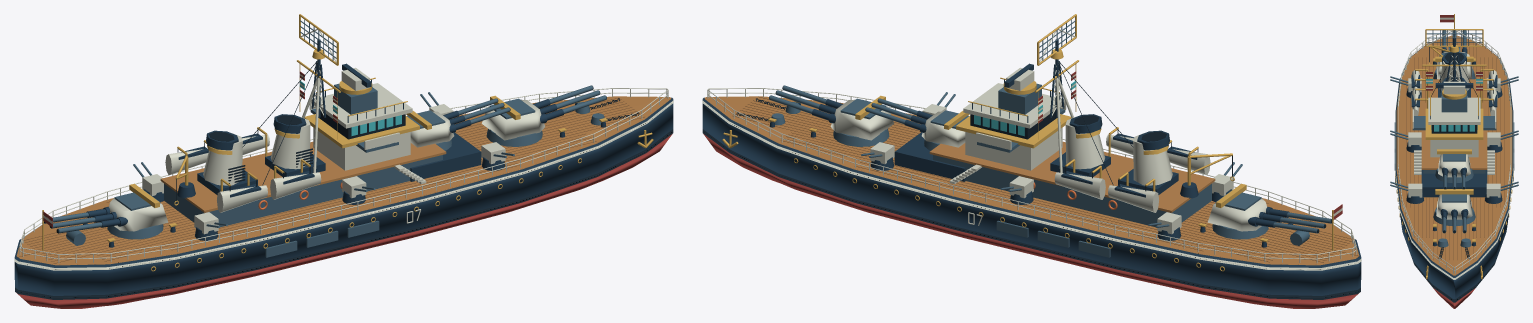
File: demo-resolute-polar-fleet-flagship.glb
3 renders of one model, left to right at view 1: azimuth 30°, elevation 25°; view 2: azimuth 150°, elevation 25°; view 3: azimuth 270°, elevation 25°, orthographic. The views are drawn at different scales.
Parts seen in each view (by area): view 1: Mesh_Armoured flared hull, Mesh_Teak main deck, Mesh_Red antifouling carved keel, Mesh_Citadel lower deck, Mesh_Citadel teak roof, Mesh_Boot stripe, Mesh_Ivory sheer stripe, Mesh_Bridge lower block, Mesh_Bridge roof overhang, Mesh_B raised battery platform, Mesh_A forward battery angled gunhouse, Mesh_Raked funnel -2.4 (+13 smaller); view 2: Mesh_Armoured flared hull, Mesh_Teak main deck, Mesh_Red antifouling carved keel, Mesh_Citadel lower deck, Mesh_Citadel teak roof, Mesh_Boot stripe, Mesh_Ivory sheer stripe, Mesh_Bridge lower block, Mesh_Bridge roof overhang, Mesh_B raised battery platform, Mesh_Raked funnel -5.7, Mesh_Raked funnel -2.4 (+13 smaller); view 3: Mesh_Teak main deck, Mesh_Armoured flared hull, Mesh_Citadel teak roof, Mesh_Bridge roof overhang, Mesh_B raised battery platform, Mesh_Bridge middle deck rim, Mesh_Bridge lower block, Mesh_Ivory sheer stripe, Mesh_A forward battery angled gunhouse, Mesh_B superfiring battery angled gunhouse, Mesh_Conning tower, Mesh_Boot stripe (+38 smaller).
Part boxes in pixels (x1,y1,x2,y2): Mesh_Armoured flared hull: [14, 97, 673, 295]; Mesh_Teak main deck: [16, 96, 671, 265]; Mesh_Red antifouling carved keel: [17, 134, 672, 308]; Mesh_Citadel lower deck: [164, 155, 442, 227]; Mesh_Citadel teak roof: [160, 141, 446, 212]; Mesh_Boot stripe: [15, 129, 673, 299]; Mesh_Ivory sheer stripe: [14, 100, 673, 270]; Mesh_Bridge lower block: [313, 127, 410, 170]; Mesh_Bridge roof overhang: [311, 83, 412, 128]; Mesh_B raised battery platform: [410, 132, 481, 181]; Mesh_A forward battery angled gunhouse: [481, 99, 545, 140]; Mesh_Raked funnel -2.4: [270, 117, 310, 169]; Mesh_Armoured flared hull: [702, 97, 1361, 295]; Mesh_Teak main deck: [704, 96, 1359, 265]; Mesh_Red antifouling carved keel: [703, 134, 1358, 308]; Mesh_Citadel lower deck: [933, 155, 1211, 227]; Mesh_Citadel teak roof: [929, 141, 1215, 212]; Mesh_Boot stripe: [702, 129, 1360, 299]; Mesh_Ivory sheer stripe: [702, 100, 1361, 270]; Mesh_Bridge lower block: [965, 127, 1062, 170]; Mesh_Bridge roof overhang: [963, 83, 1064, 128]; Mesh_B raised battery platform: [894, 132, 965, 181]; Mesh_Raked funnel -5.7: [1133, 133, 1172, 185]; Mesh_Raked funnel -2.4: [1065, 117, 1105, 169]; Mesh_Teak main deck: [1396, 35, 1512, 275]; Mesh_Armoured flared hull: [1395, 43, 1513, 299]; Mesh_Citadel teak roof: [1421, 79, 1487, 169]; Mesh_Bridge roof overhang: [1428, 97, 1480, 124]; Mesh_B raised battery platform: [1421, 170, 1487, 197]; Mesh_Bridge middle deck rim: [1425, 108, 1483, 139]; Mesh_Bridge lower block: [1430, 140, 1478, 157]; Mesh_Ivory sheer stripe: [1395, 83, 1513, 279]; Mesh_A forward battery angled gunhouse: [1436, 194, 1472, 219]; Mesh_B superfiring battery angled gunhouse: [1438, 154, 1470, 177]; Mesh_Conning tower: [1441, 89, 1467, 112]; Mesh_Boot stripe: [1405, 239, 1503, 302].
Bounding box in the file's own units: 32.03 × 10.07 × 7.23.
